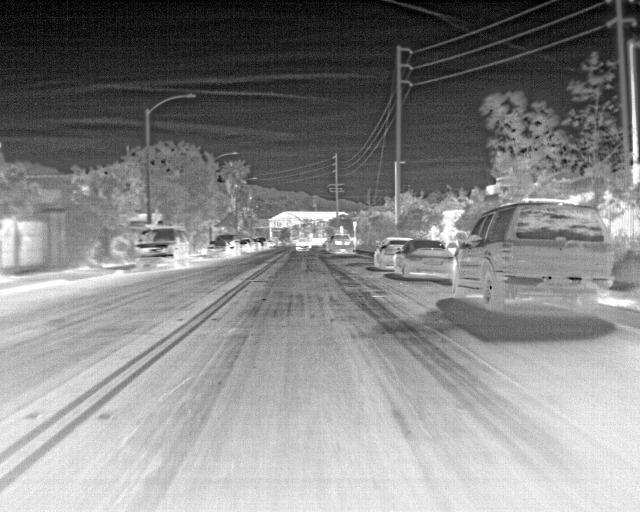car: (450, 203, 613, 315), (133, 226, 191, 269), (395, 238, 451, 281), (373, 237, 404, 269), (329, 234, 356, 256), (221, 234, 240, 252), (205, 239, 225, 254), (245, 238, 262, 252), (292, 238, 308, 252), (254, 236, 270, 249), (319, 237, 334, 250), (237, 239, 253, 251)
